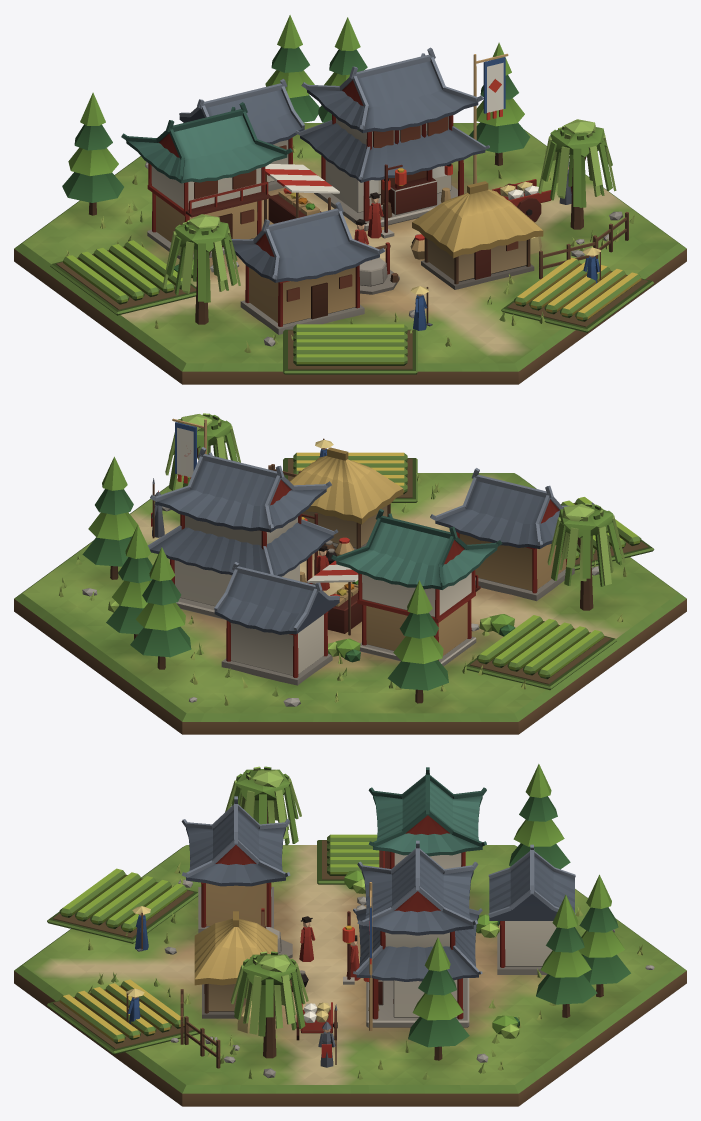
File: cluster_town.glb
The picture shows the model from 3 angles, top to bottom: view 1: azimuth 30°, elevation 25°; view 2: azimuth 150°, elevation 25°; view 3: azimuth 270°, elevation 25°; orthographic projection.
Visible parts, largest first — view 1: hex_ground_town, shop_tavern.001, house_twostory.001, house_small_b.001, house_thatched.001, field_patch.001, field_wheat.001, field_patch.002, tree_willow.002, tree_willow.001, house_small_a.001, tree_pine.001 (+9 smaller); view 2: hex_ground_town, shop_tavern.001, house_twostory.001, house_small_a.001, house_small_b.001, field_patch.002, house_thatched.001, tree_willow.002, tree_pine.001, tree_pine.004, tree_pine.002, tree_pine.003 (+6 smaller); view 3: hex_ground_town, shop_tavern.001, house_small_b.001, house_twostory.001, house_small_a.001, field_patch.001, field_wheat.001, house_thatched.001, tree_willow.001, tree_pine.002, tree_pine.003, tree_pine.004 (+9 smaller).
Boxes of the visible parts, x1,y1,x2,y2 form: hex_ground_town: (14,123,686,384); shop_tavern.001: (295,47,508,230); house_twostory.001: (121,102,292,259); house_small_b.001: (231,201,385,334); house_thatched.001: (412,181,543,289); field_patch.001: (283,324,417,374); field_wheat.001: (501,257,654,332); field_patch.002: (50,240,196,315); tree_willow.002: (163,214,240,324); tree_willow.001: (538,119,616,229); house_small_a.001: (179,79,304,191); tree_pine.001: (62,92,123,215); hex_ground_town: (14,473,686,734); shop_tavern.001: (148,418,338,619); house_twostory.001: (331,509,502,666); house_small_a.001: (214,562,339,685); house_small_b.001: (430,468,594,601); field_patch.002: (464,615,616,690); house_thatched.001: (289,447,403,549); tree_willow.002: (547,503,625,610); tree_pine.001: (387,580,448,703); tree_pine.004: (130,547,191,669); tree_pine.002: (82,456,138,579); tree_pine.003: (106,525,152,639); hex_ground_town: (14,845,686,1106); shop_tavern.001: (353,840,482,1030); house_small_b.001: (181,796,290,933); house_twostory.001: (368,767,486,868); house_small_a.001: (488,844,575,974); field_patch.001: (47,868,198,943); field_wheat.001: (47,979,198,1054); house_thatched.001: (194,911,277,1033); tree_willow.001: (230,951,308,1058); tree_pine.002: (408,937,469,1060); tree_pine.003: (536,894,597,1017); tree_pine.004: (579,874,630,997).
Bounding box in the file's own units: 17.32 × 5.46 × 20.
